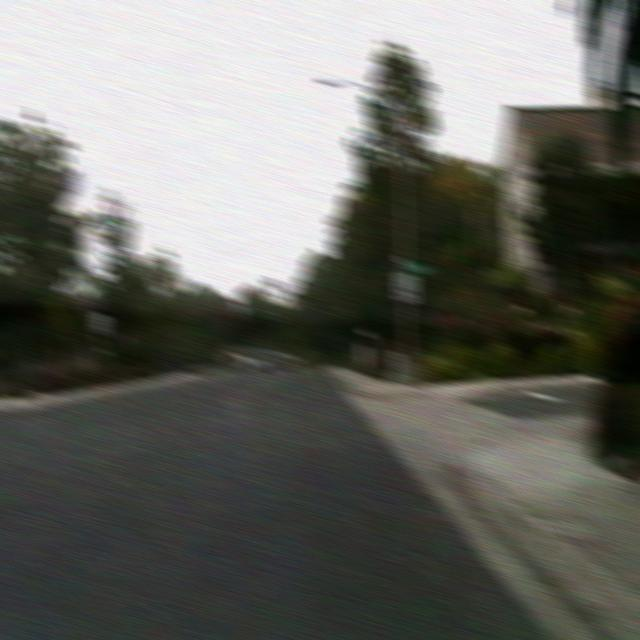speedLimit25: (394, 271, 418, 304)
